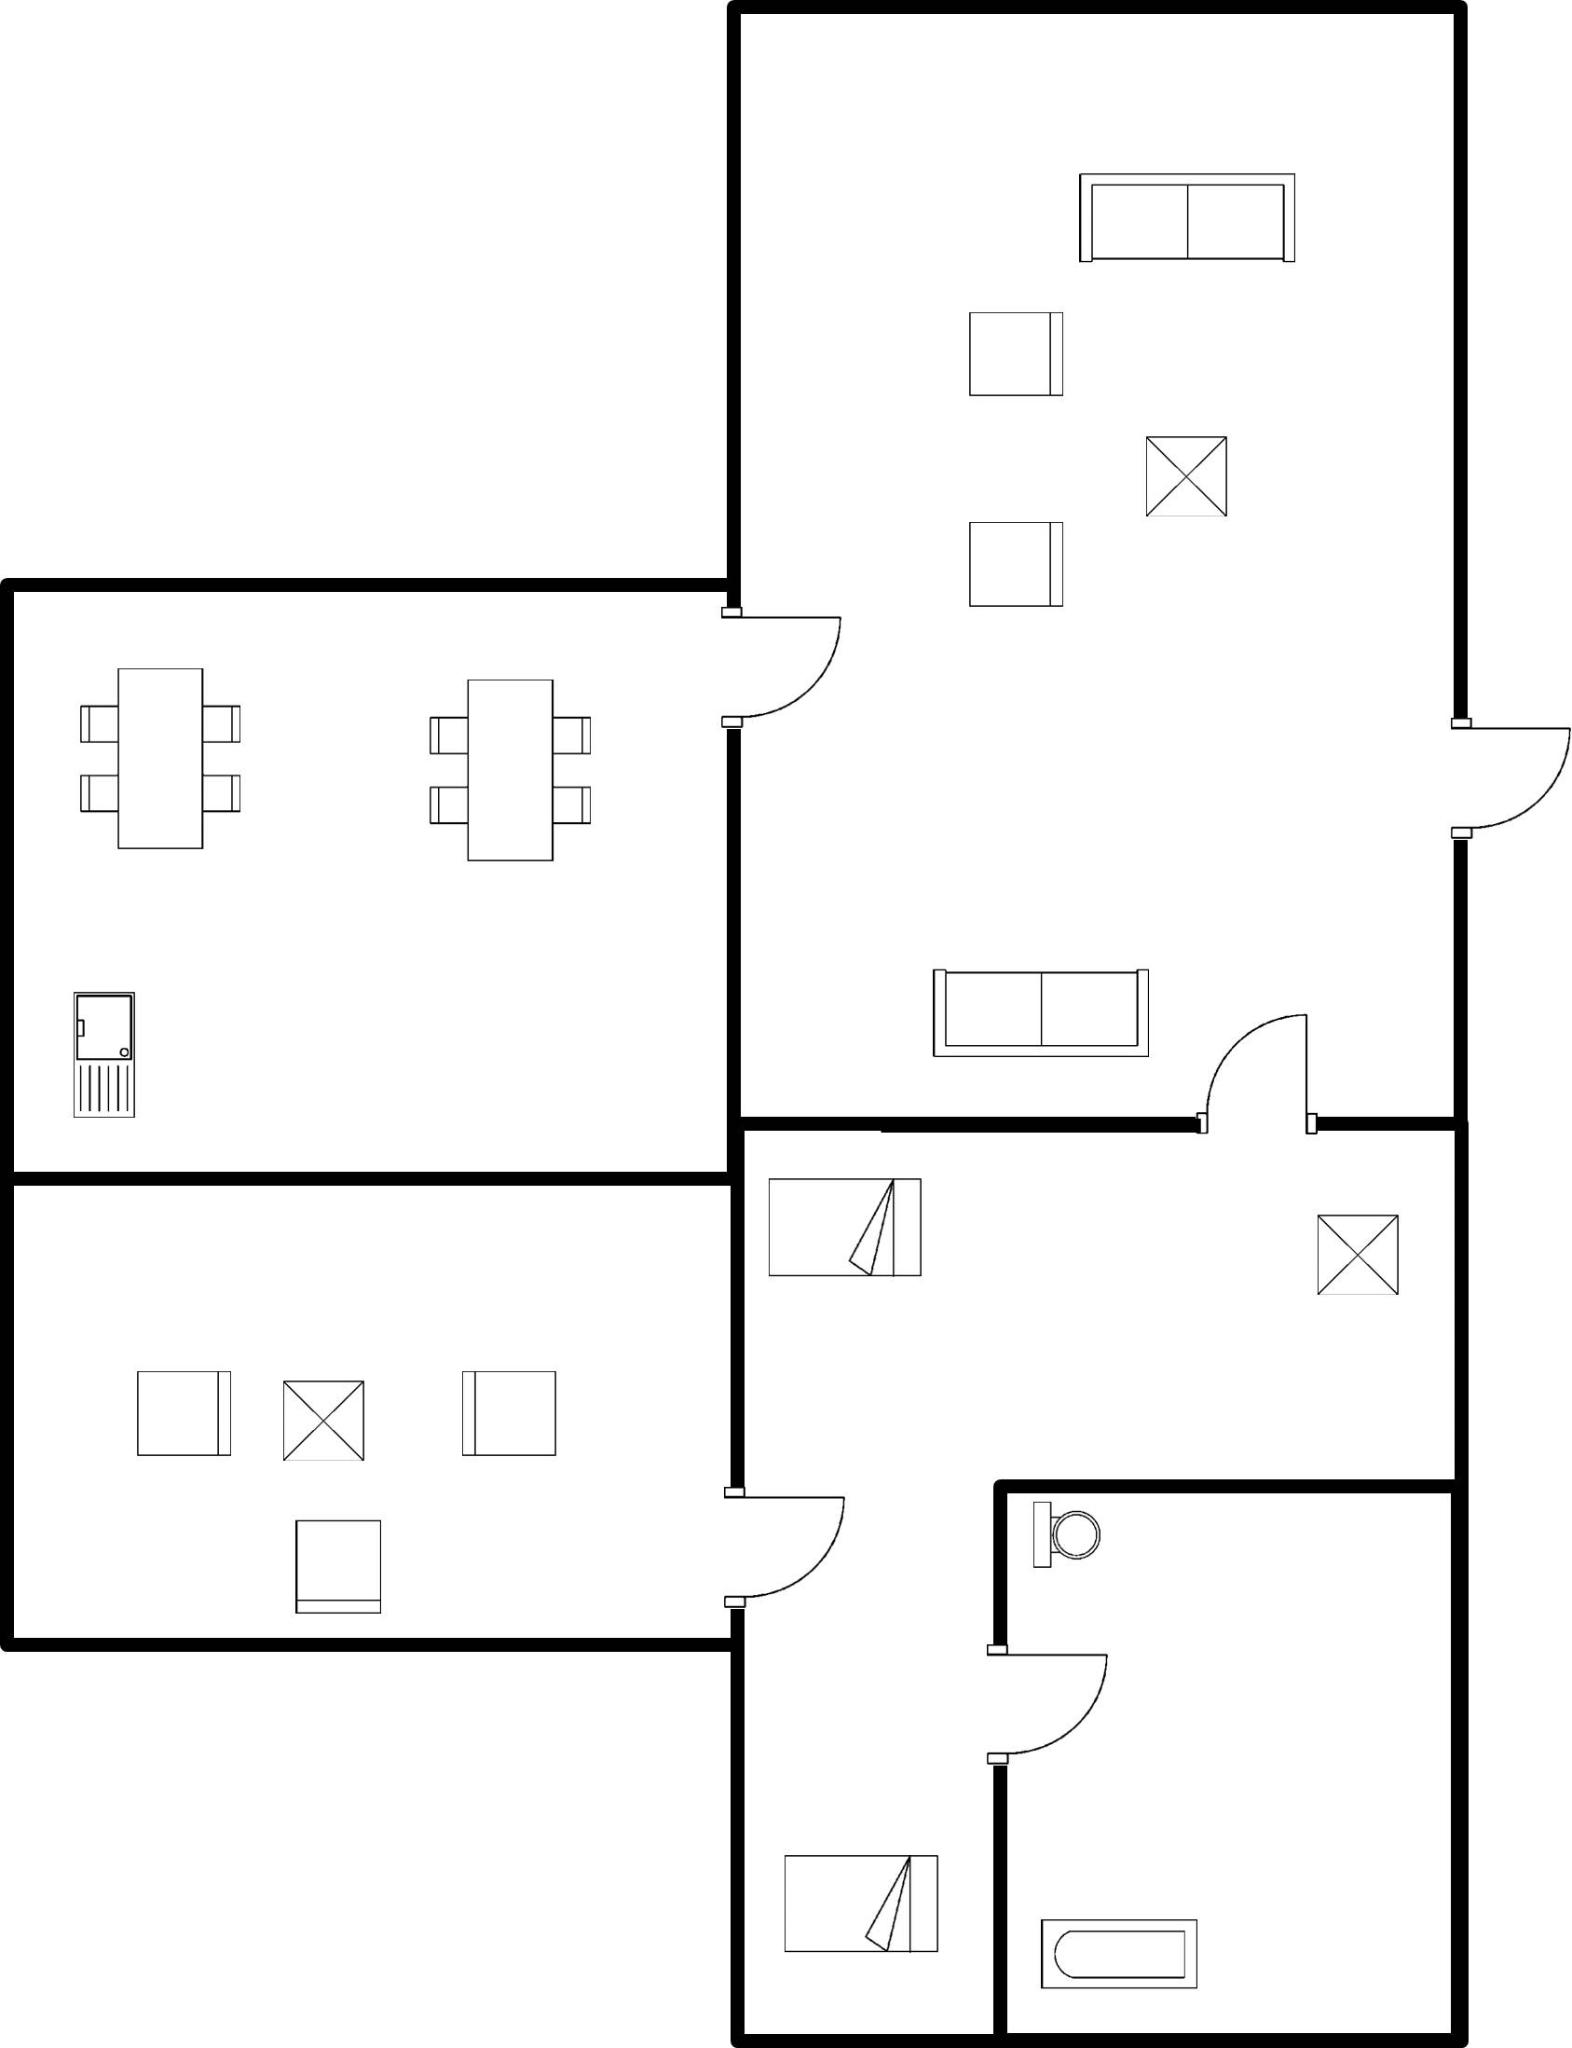bed: (755, 1164, 940, 1295), (765, 1840, 953, 1964)
dining_table: (411, 662, 608, 879), (61, 651, 254, 869)
sink: (61, 978, 149, 1123)
sofa: (1060, 145, 1306, 281), (920, 951, 1162, 1069), (439, 1351, 575, 1477), (124, 1356, 246, 1470), (279, 1501, 390, 1627)
toilet: (1016, 1495, 1108, 1579)
tub: (1027, 1904, 1214, 2008)
